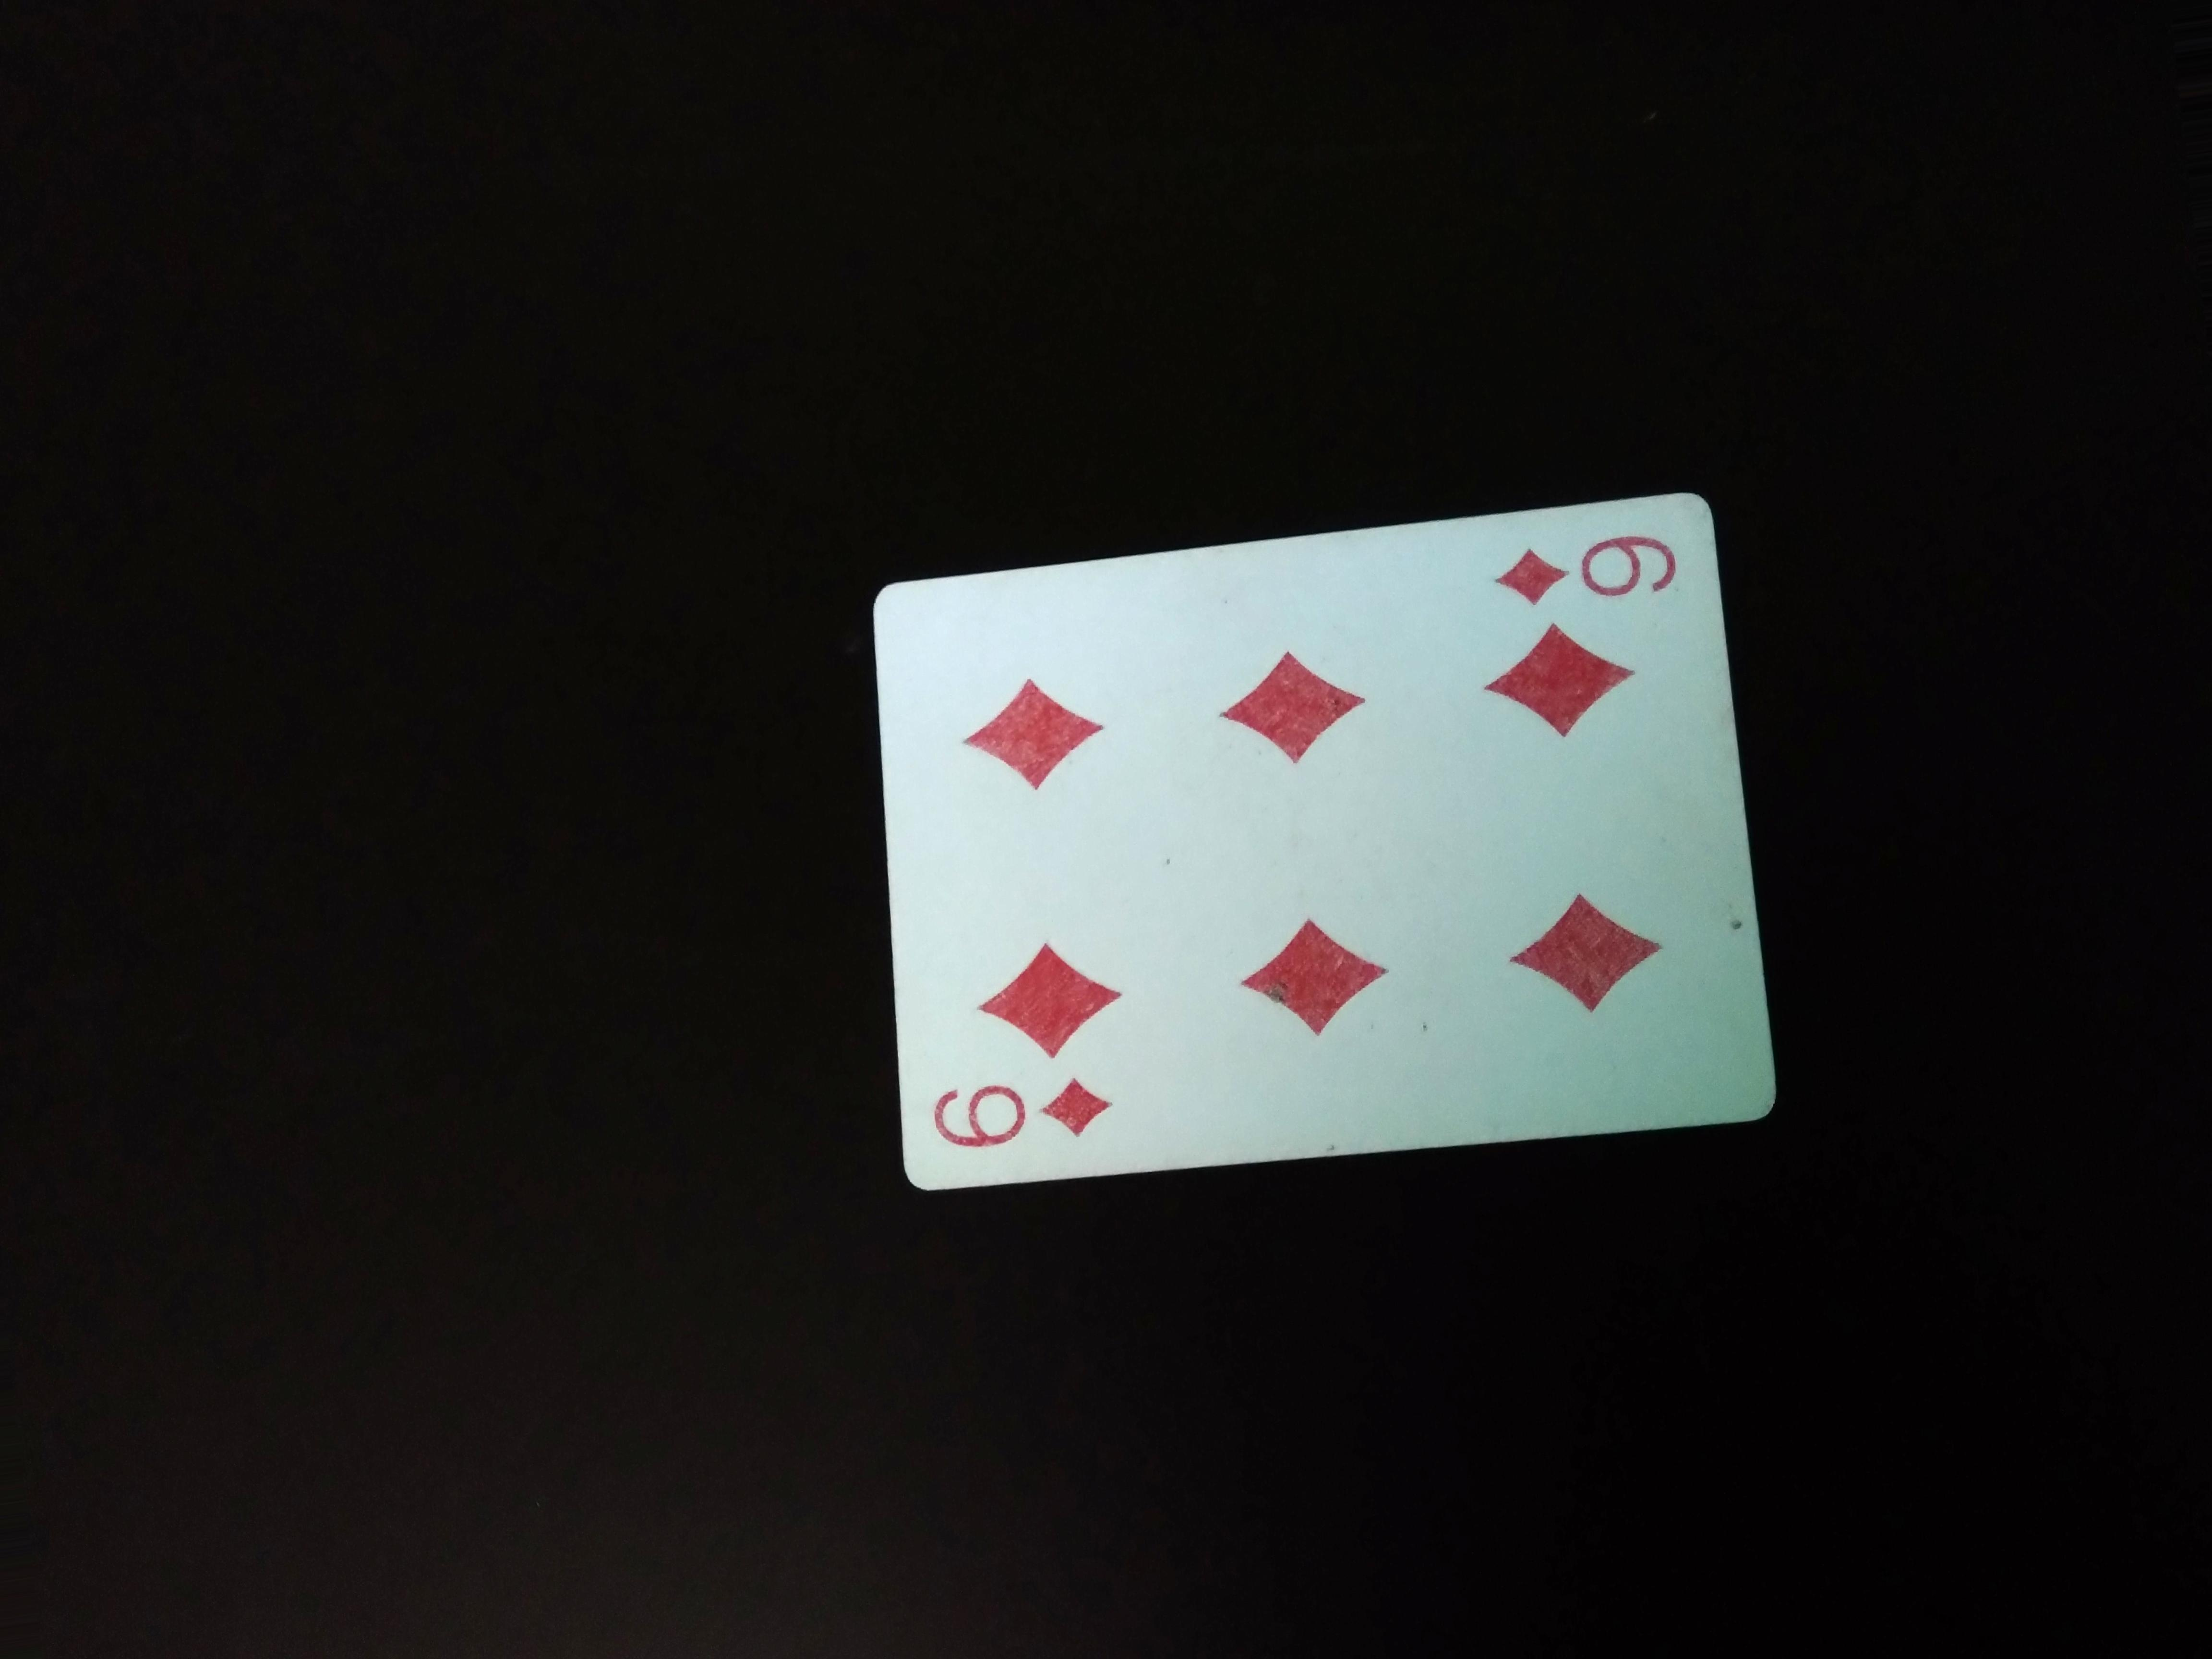6D: (927, 1077, 1109, 1159)
